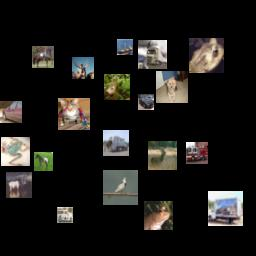automobile: (0, 101, 22, 123), (138, 94, 154, 110)
bird: (103, 170, 138, 205)
cat: (58, 98, 90, 130)
deer: (148, 141, 177, 170), (6, 172, 32, 198), (104, 74, 130, 100), (72, 57, 94, 79)
dog: (156, 71, 188, 103)
frog: (189, 38, 224, 73), (1, 137, 30, 166), (144, 201, 173, 230)
ship: (117, 39, 133, 55)
truck: (208, 191, 243, 226), (138, 40, 167, 69), (103, 130, 129, 156), (186, 142, 208, 164), (57, 207, 73, 223)
